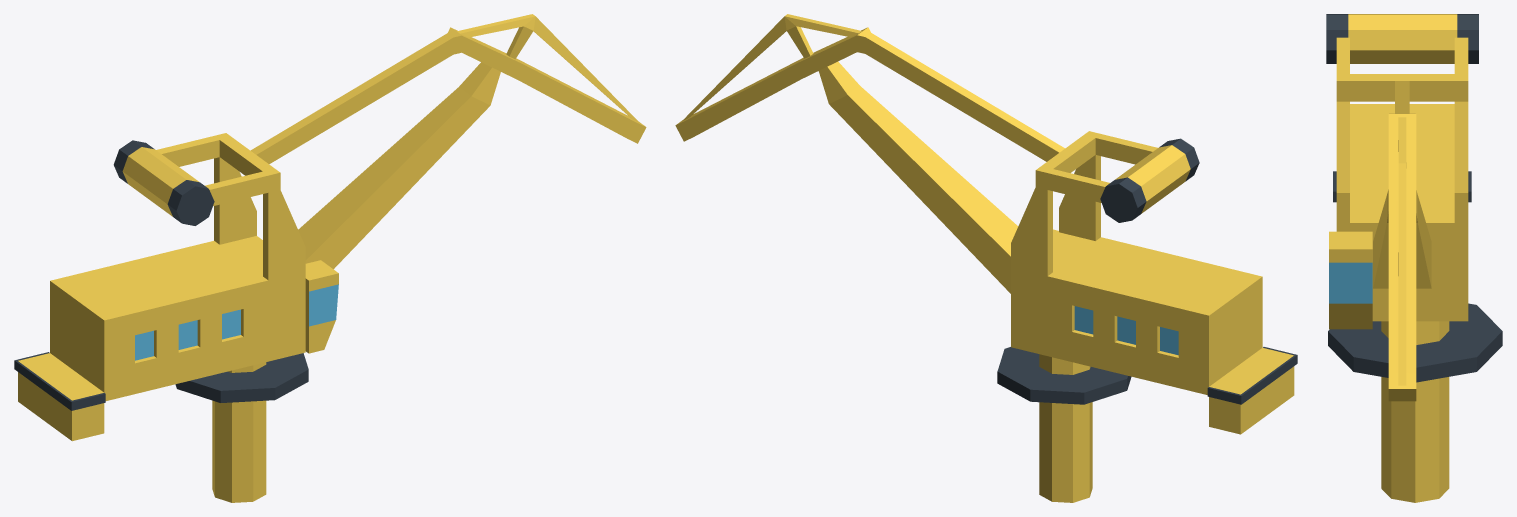
File: crane_top.fbx
3 renders of one model, left to right at view 1: azimuth 30°, elevation 25°; view 2: azimuth 150°, elevation 25°; view 3: azimuth 270°, elevation 25°, orthographic. The views are drawn at different scales.
Parts seen in each view (by area): view 1: crane_top; view 2: crane_top; view 3: crane_top.
Part boxes in pixels (x1,y1,x2,y2): crane_top: (14,14,646,502); crane_top: (675,14,1297,502); crane_top: (1326,14,1502,502).
Bounding box in the file's own units: 1929 × 1271 × 406.
Materials: 1 (1 with a texture image).
